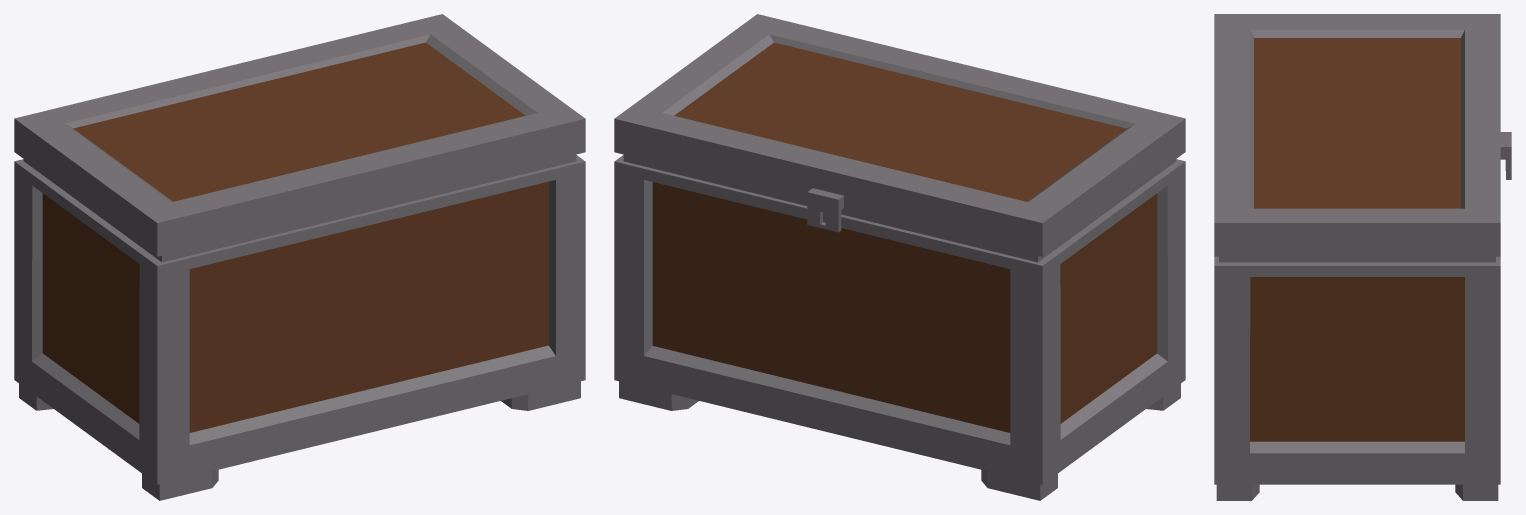
File: chest01.gltf
3 renders of one model, left to right at view 1: azimuth 30°, elevation 25°; view 2: azimuth 150°, elevation 25°; view 3: azimuth 270°, elevation 25°, orthographic.
Parts seen in each view (by area): view 1: Cube; view 2: Cube; view 3: Cube.
Part boxes in pixels (bbox=[...]): Cube: bbox=[14, 14, 585, 500]; Cube: bbox=[614, 14, 1185, 500]; Cube: bbox=[1214, 14, 1511, 500].
Bounding box in the file's own units: 0.7622 × 0.4751 × 0.4579.
1 material, 1 textured.
